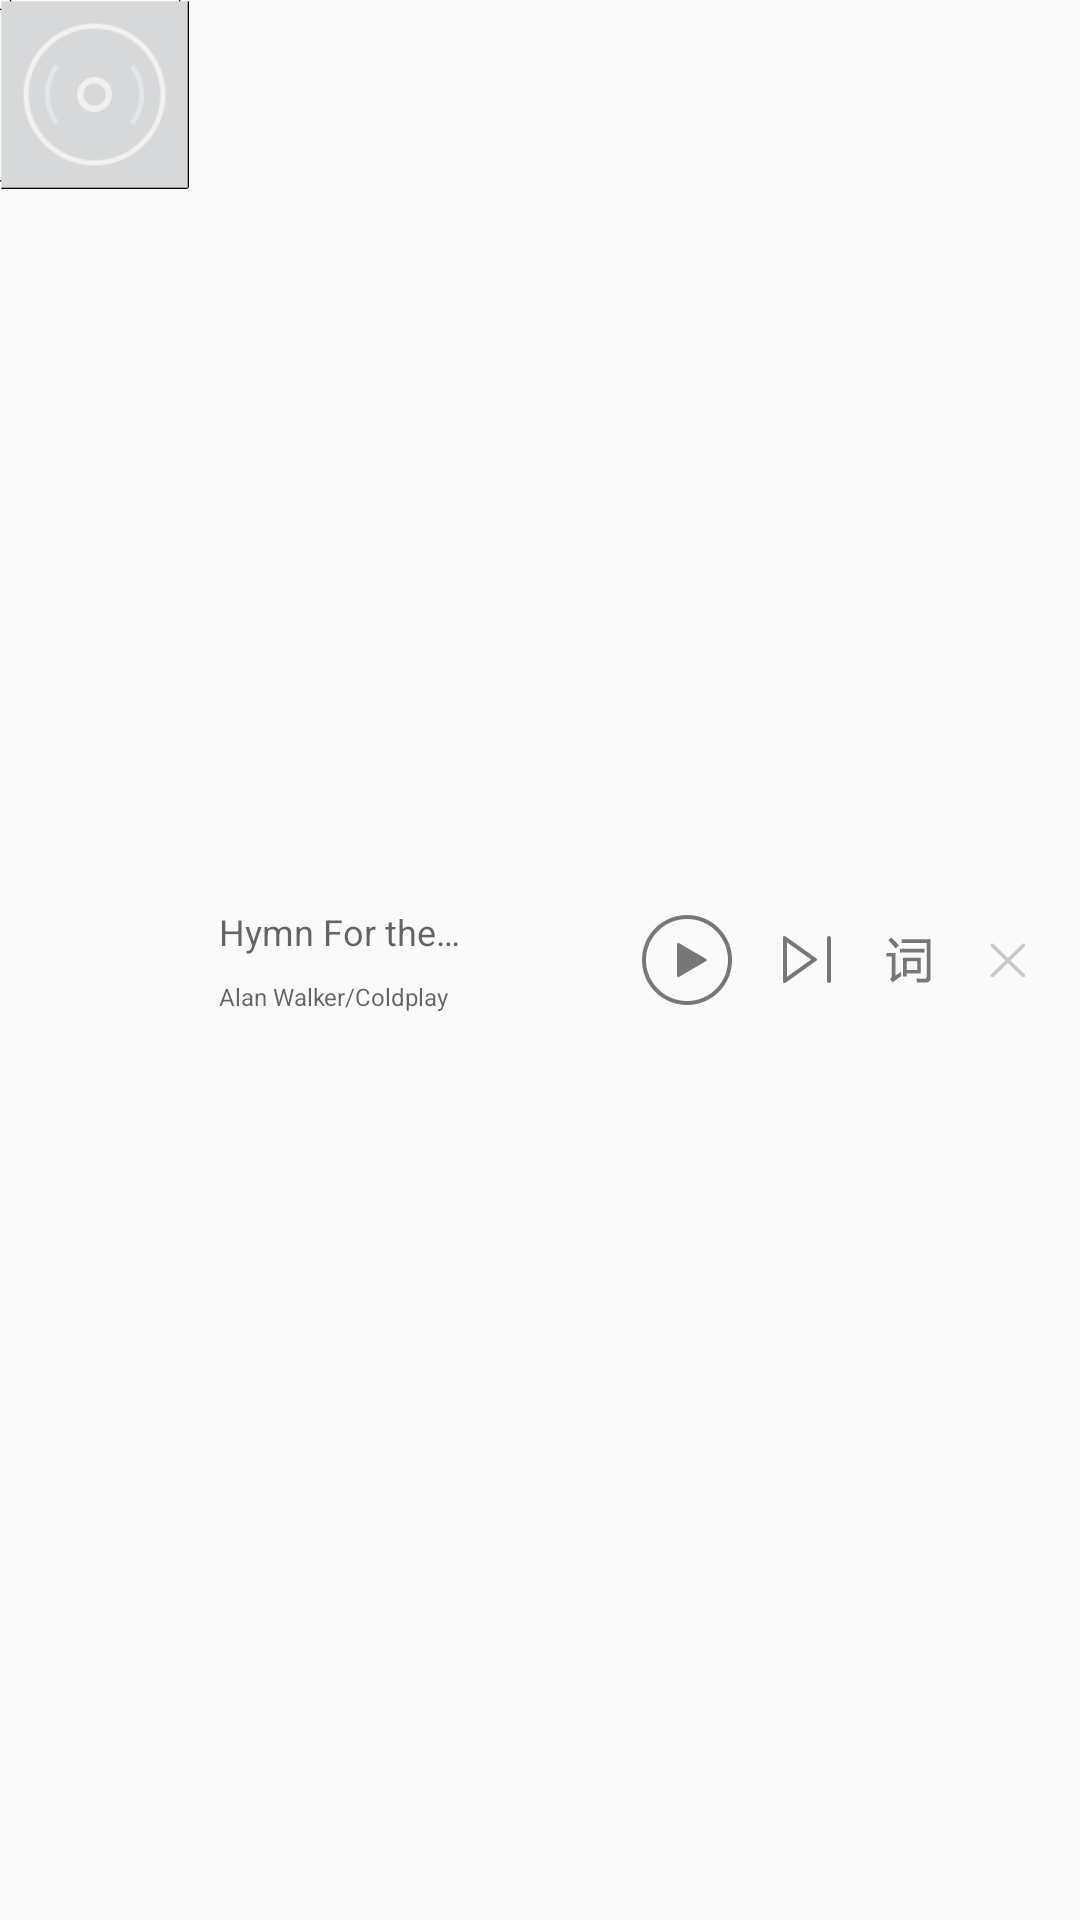

Where to tap for icons on this 1080w x 1920h app screen, as (x,y):
note close: (1008,960)
note next: (807,959)
note play: (687,960)
